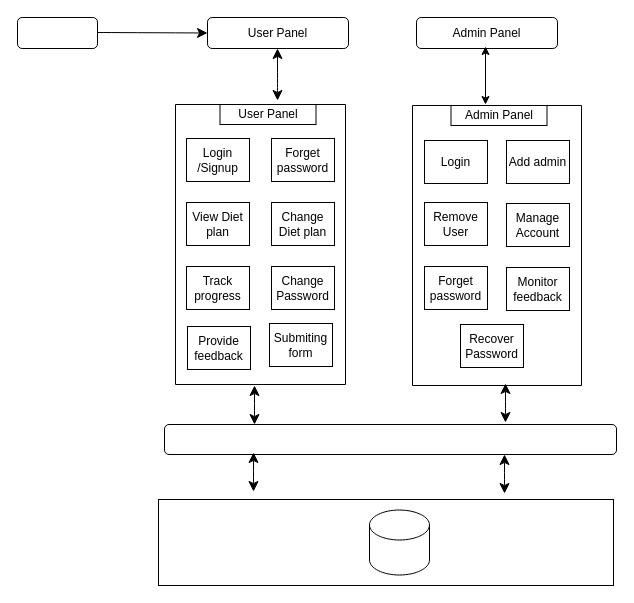
Some shapes in this 634 by 603 pixel diagram are drawn without their labels. Here are the shapes that lost their labels. From the top down, the centre of each, then its label:
the point at 57,32: Users
the point at 390,439: Database Access
the point at 399,542: Database
